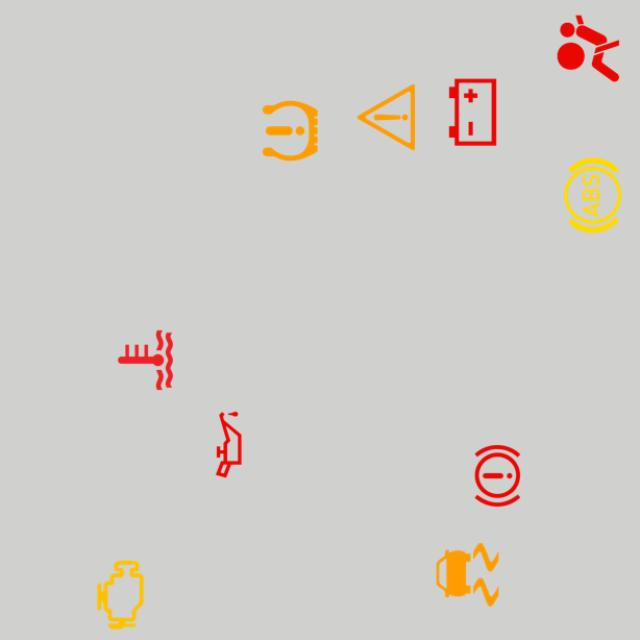Anti Lock Braking System: (551, 154, 634, 237)
Braking System Issue: (456, 435, 539, 517)
Charging System Issue: (431, 71, 514, 153)
Check Engine: (79, 553, 162, 636)
Electronic Stability Problem -ESP-: (426, 534, 509, 616)
Engine Overheating Warning Light: (104, 319, 187, 401)
Low Engine Oil Warning Light: (188, 403, 270, 486)
Low Tire Pressure Warning Light: (249, 90, 332, 172)
Master warning light: (345, 76, 427, 159)
SRS-Airbag: (547, 7, 630, 90)
